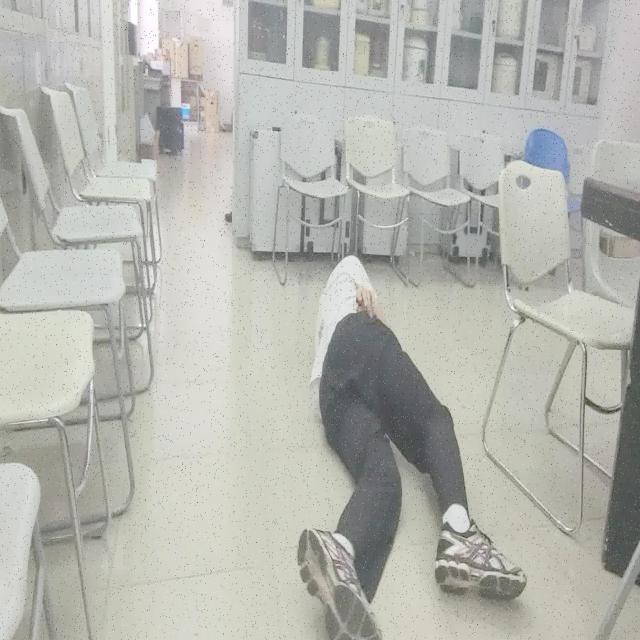fall: (293, 256, 529, 640)
